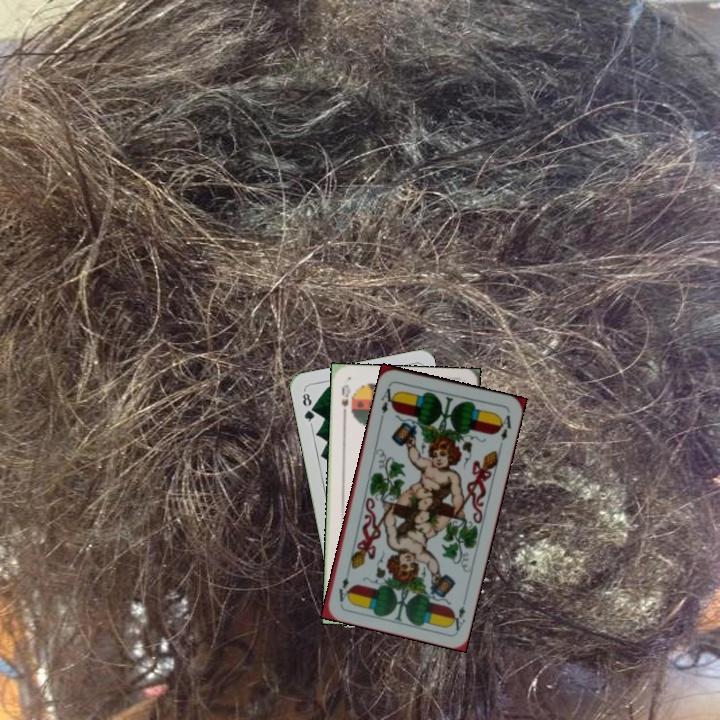EA: (447, 593, 469, 633), (377, 381, 399, 416)
G8: (298, 387, 318, 427)
SO: (337, 381, 353, 419)
